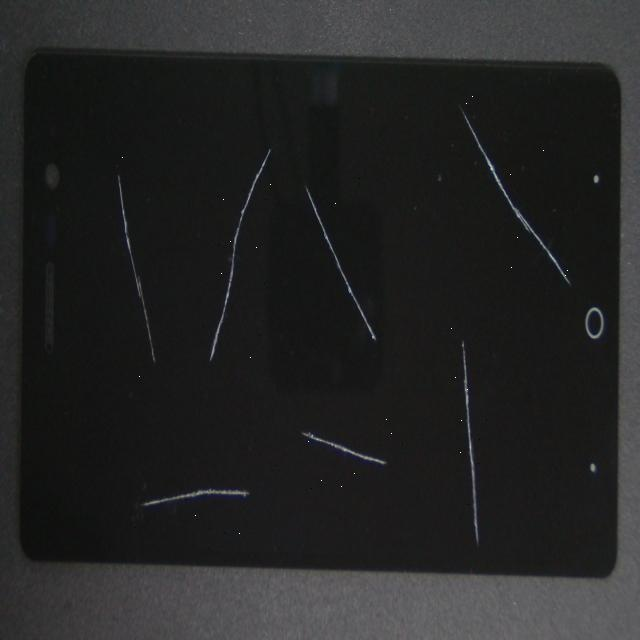scratch: (76, 216, 470, 640), (249, 131, 640, 505), (180, 186, 542, 557), (169, 0, 640, 279), (171, 0, 365, 298), (69, 219, 202, 640), (32, 0, 176, 356)
